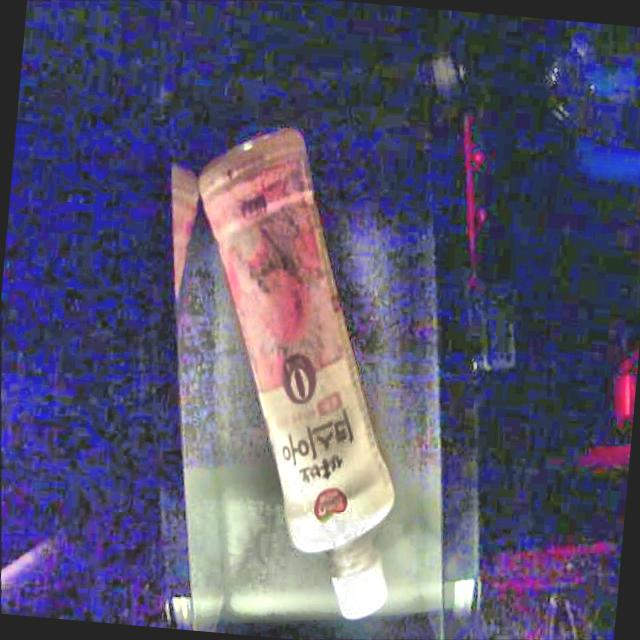plastic bottle: (198, 130, 394, 619)
